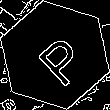P_NW: (23, 24, 87, 86)
